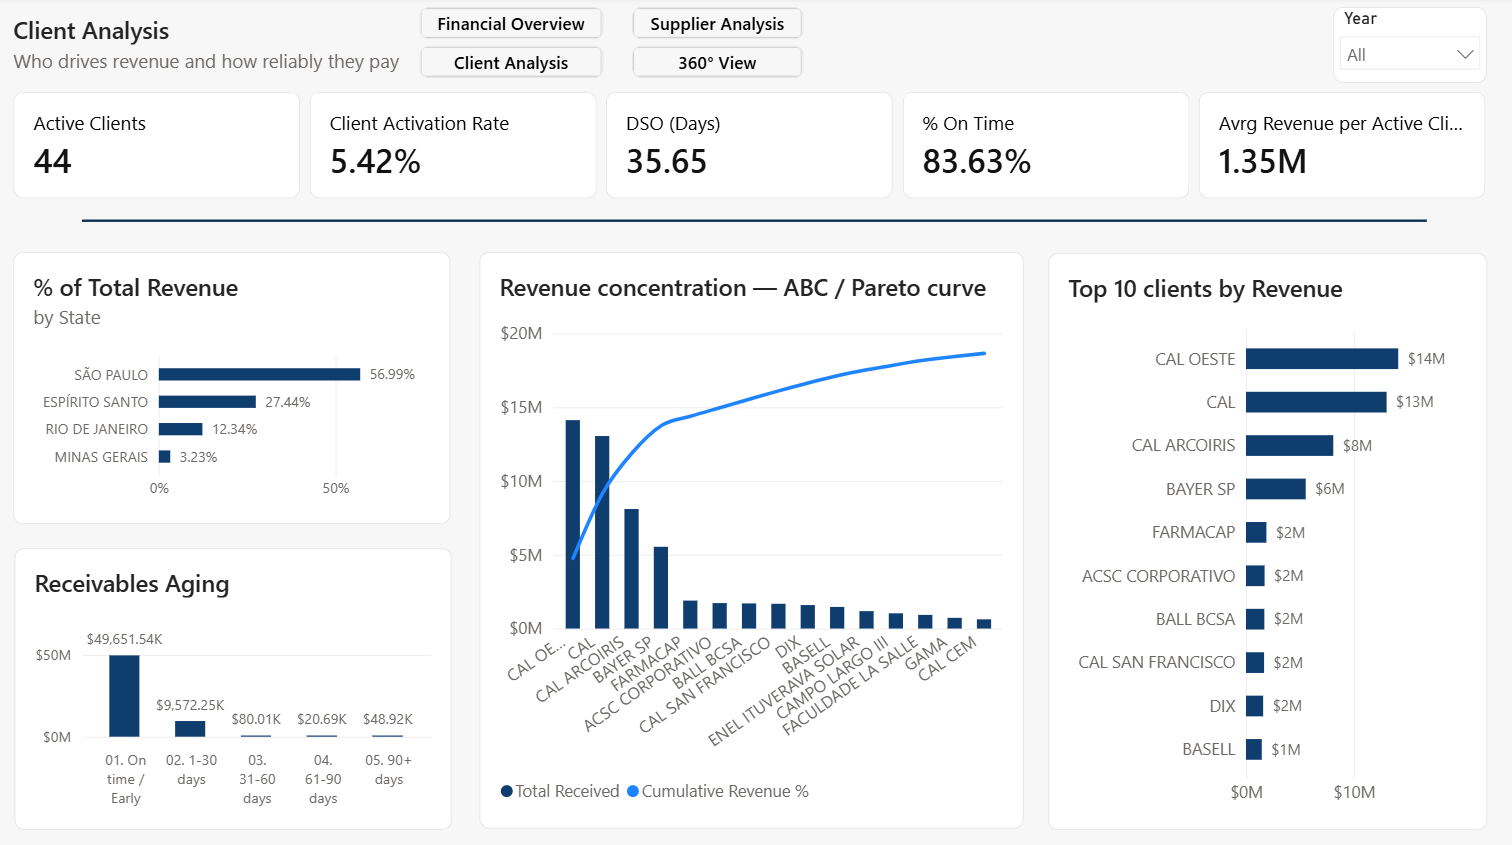

What the dashboard file says about the page in this screenshot:
{"tool":"powerbi","page":{"name":"Client Analysis","canvas":[1280,720],"ordinal":1},"visuals":[{"type":"cardVisual","title":"Client Analysis","fields":{"Data":["_measures.Active Clients","_measures.Client Activation Rate","_measures.DSO (Days)","_measures.% On Time","_measures.Total Received per Active Client"]},"box":[14,14,1243.7,156.9],"z":0},{"type":"actionButton","title":"Cash Position","box":[356.4,8.4,155,27.4],"z":1000},{"type":"actionButton","title":"Page 3","box":[535.7,8.4,144.5,27.4],"z":2000},{"type":"actionButton","title":"Page 4","box":[535.7,41.1,144.5,27.4],"z":3000},{"type":"actionButton","title":"Page 2","box":[356.4,41.1,155,27.4],"z":4000},{"type":"slicer","fields":{"Values":["dmDate.Year"]},"box":[1127.1,8.8,129.9,63.9],"z":5000},{"type":"shape","box":[72,162.3,1134.6,52.7],"z":6000},{"type":"lineStackedColumnComboChart","title":"Revenue concentration — ABC / Pareto curve","fields":{"Category":["dmClients.Legal Name"],"Y":["_measures.Total Received"],"Y2":["_measures.Cumulative Revenue %"]},"box":[406.8,215.4,459.1,486.5],"z":7000},{"type":"clusteredBarChart","title":"Top 10 clients by Revenue","fields":{"Category":["dmClients.Legal Name"],"Y":["_measures.Total Received"]},"box":[886.9,215.7,370.3,486.6],"z":8000},{"type":"clusteredColumnChart","title":"Receivables Aging","fields":{"Category":["fcReceipts.Aging Bucket"],"Y":["_measures.Total Received"]},"box":[14.4,465,369.2,237.8],"z":9000},{"type":"clusteredBarChart","fields":{"Category":["dmClients.State"],"Y":["_measures.% of Total Revenue"]},"box":[13.9,215.4,368.8,229.4],"z":10000}]}

Visuals, with their boxes in screenshot pixels (x1, y1, x2, y2), scaled from the page's 1280x720 canvas onto the 1512x845 screenshot:
"Client Analysis" cardVisual: {"left": 17, "top": 16, "right": 1486, "bottom": 201}
"Cash Position" actionButton: {"left": 421, "top": 10, "right": 604, "bottom": 42}
"Page 3" actionButton: {"left": 633, "top": 10, "right": 803, "bottom": 42}
"Page 4" actionButton: {"left": 633, "top": 48, "right": 803, "bottom": 80}
"Page 2" actionButton: {"left": 421, "top": 48, "right": 604, "bottom": 80}
slicer - dmDate.Year: {"left": 1331, "top": 10, "right": 1485, "bottom": 85}
shape: {"left": 85, "top": 190, "right": 1425, "bottom": 252}
"Revenue concentration — ABC / Pareto curve" lineStackedColumnComboChart: {"left": 481, "top": 253, "right": 1023, "bottom": 824}
"Top 10 clients by Revenue" clusteredBarChart: {"left": 1048, "top": 253, "right": 1485, "bottom": 824}
"Receivables Aging" clusteredColumnChart: {"left": 17, "top": 546, "right": 453, "bottom": 825}
clusteredBarChart - dmClients.State x _measures.% of Total Revenue: {"left": 16, "top": 253, "right": 452, "bottom": 522}
